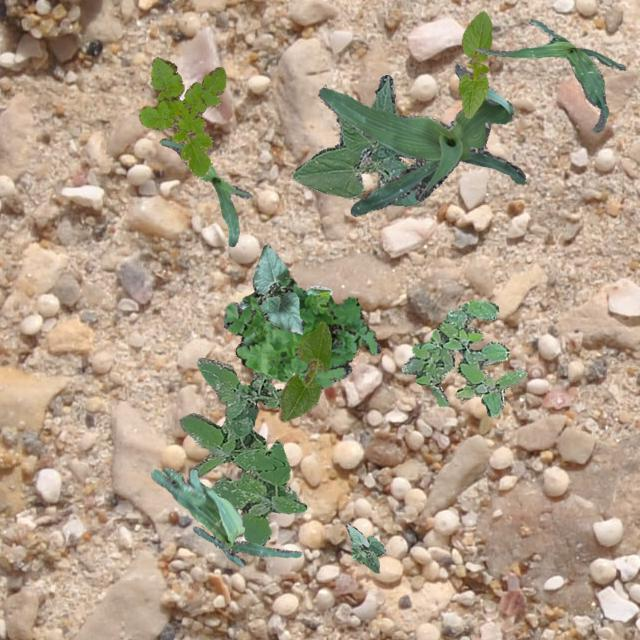crop: (318, 62, 524, 215), (292, 74, 421, 205), (476, 18, 624, 132), (150, 466, 300, 564), (158, 137, 252, 245), (278, 320, 330, 420), (252, 244, 304, 334), (458, 10, 490, 116), (238, 284, 332, 308), (344, 522, 384, 572)
weed: (178, 356, 306, 544), (222, 278, 380, 388), (399, 299, 526, 416), (137, 56, 225, 176)
